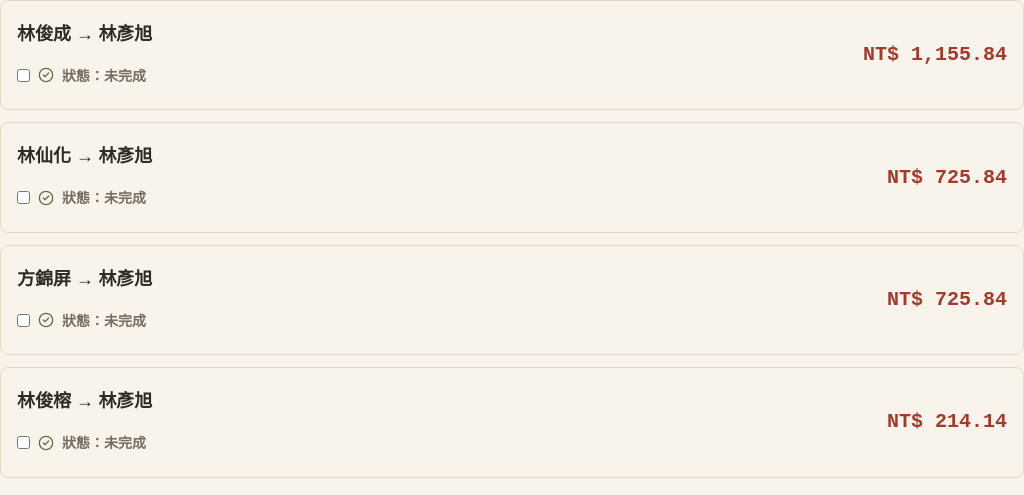
Test: accounting daily statistics and settlement › allows each settlement transfer to be marked completed
Expected: the text "狀態：未完成" below "林俊成" is shown, [17,66,146,85]
Click the checkbox named "標記 林俊成 轉帳給 林彥旭 已完成": (24, 75) [17,69,30,82]
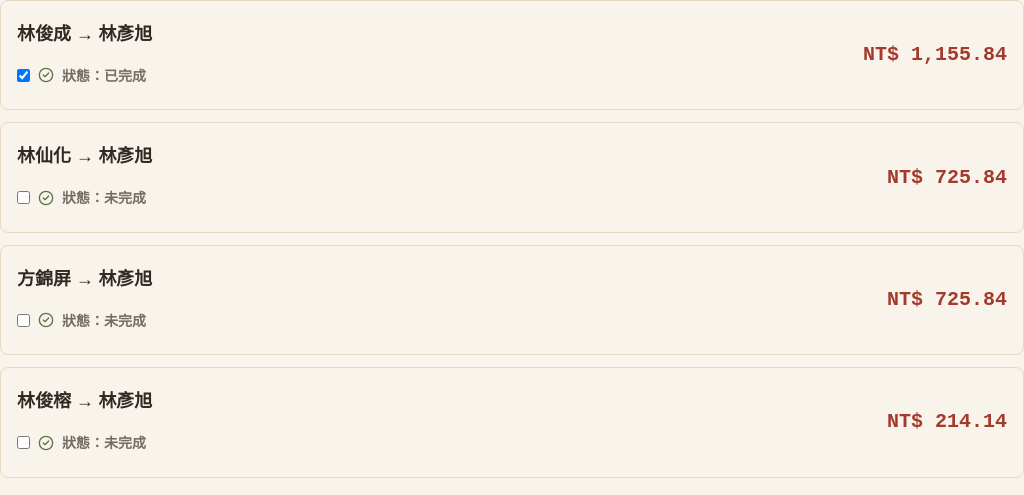
Result: the checkbox named "標記 林俊成 轉帳給 林彥旭 已完成" is checked at [17,69,30,82]
Result: the text "狀態：已完成" is shown at [17,66,146,85]
